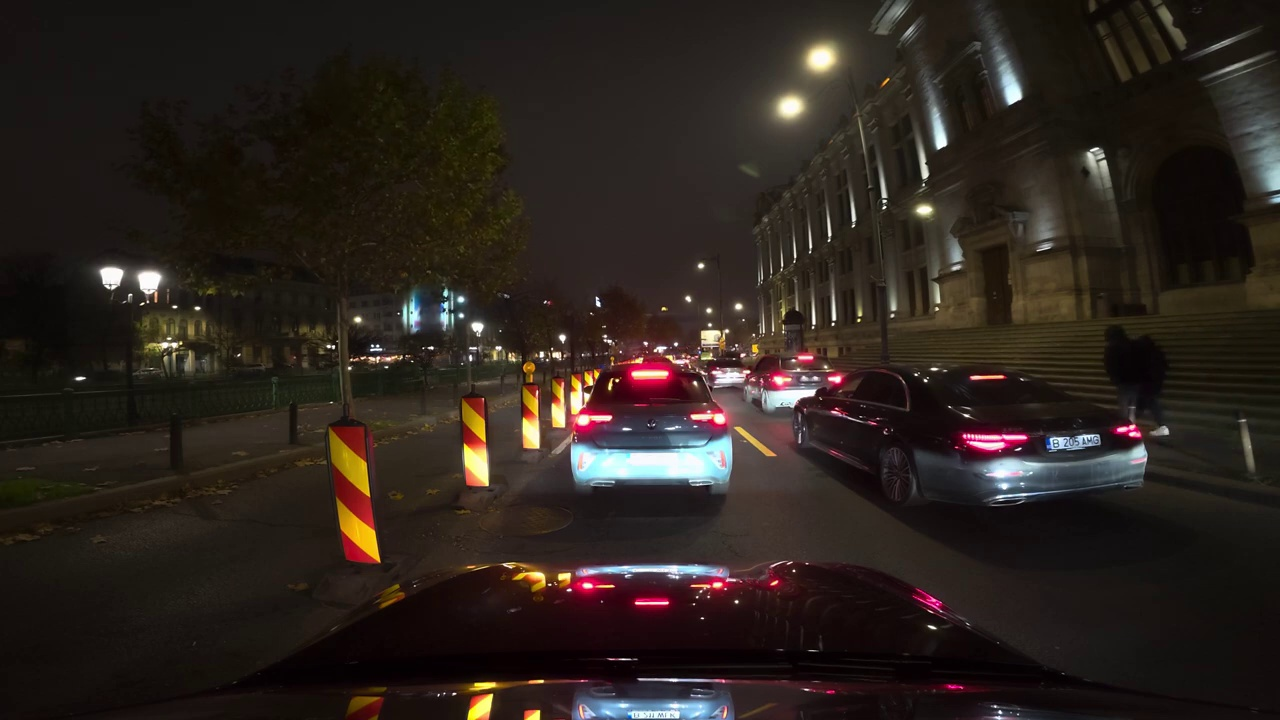acesa: (803, 42, 838, 74), (773, 93, 805, 121), (912, 201, 936, 222), (739, 160, 760, 180)
